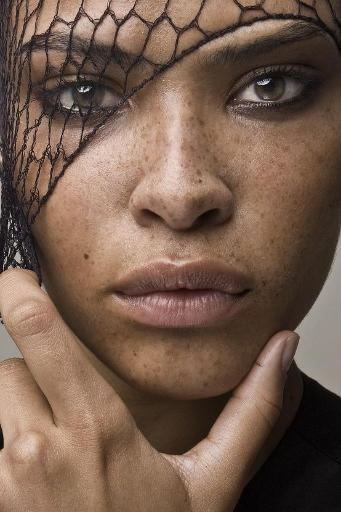left_eye: (227, 63, 322, 115)
left_lip_corner: (239, 272, 258, 307)
right_eye: (44, 77, 136, 118)
right_lip_corner: (105, 279, 125, 308)
